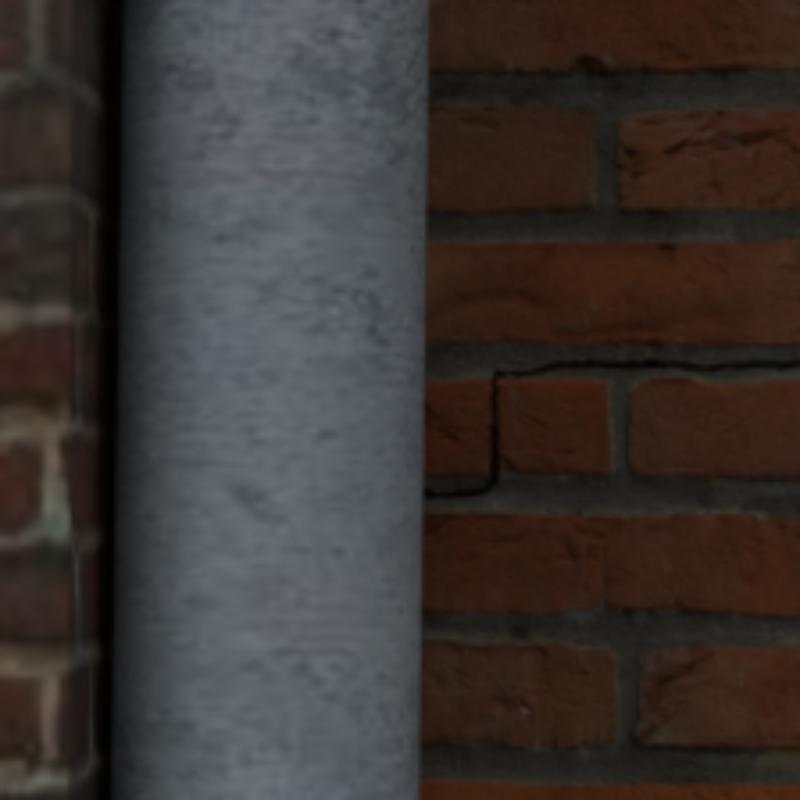pothole: (421, 361, 796, 496)
